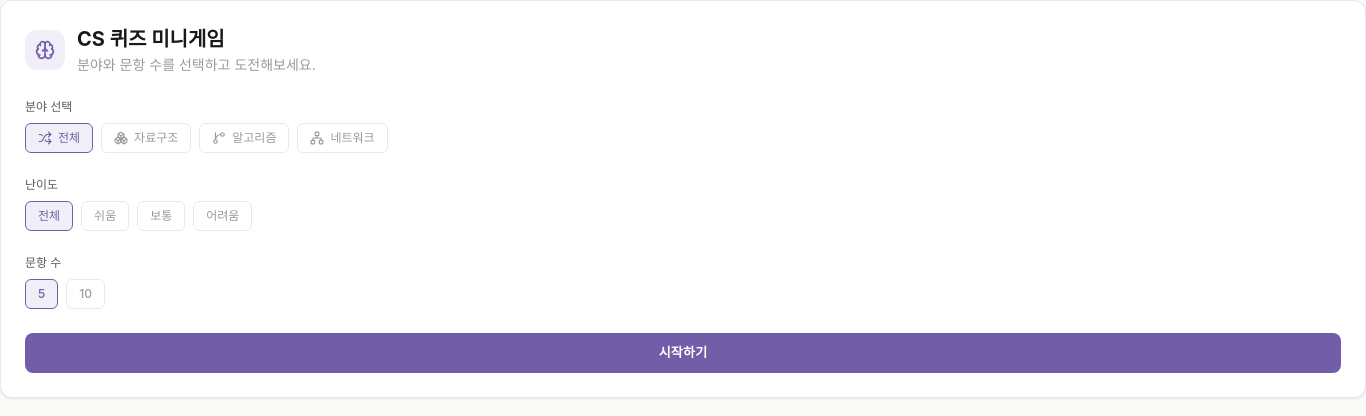
QuizStart › hides the 10 option when the filtered pool is below 10
The image size is (1366, 416).
Click the radio button labelled "알고리즘": (244,138) [199,123,290,153]
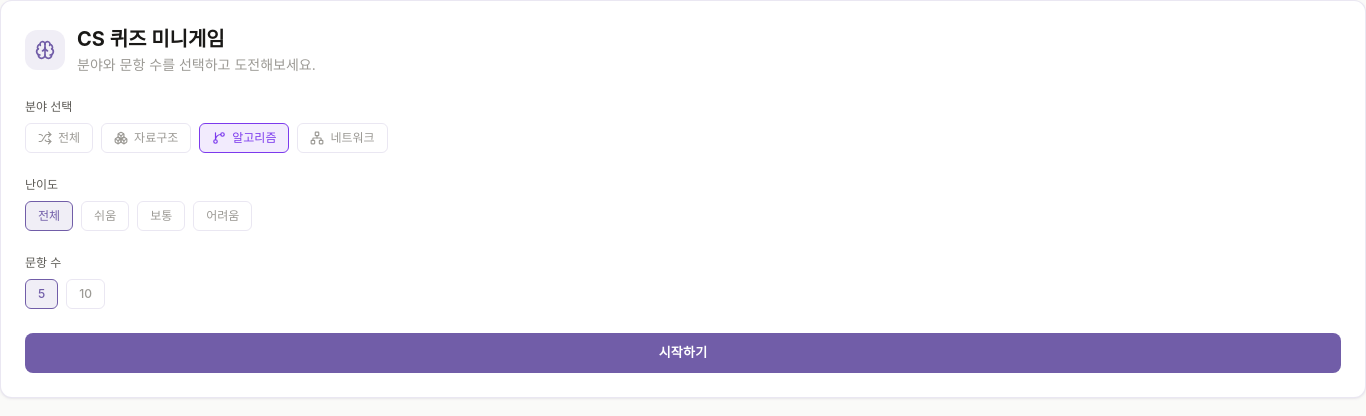
Click the radio button labelled "어려움": (223,216) [193,201,252,231]
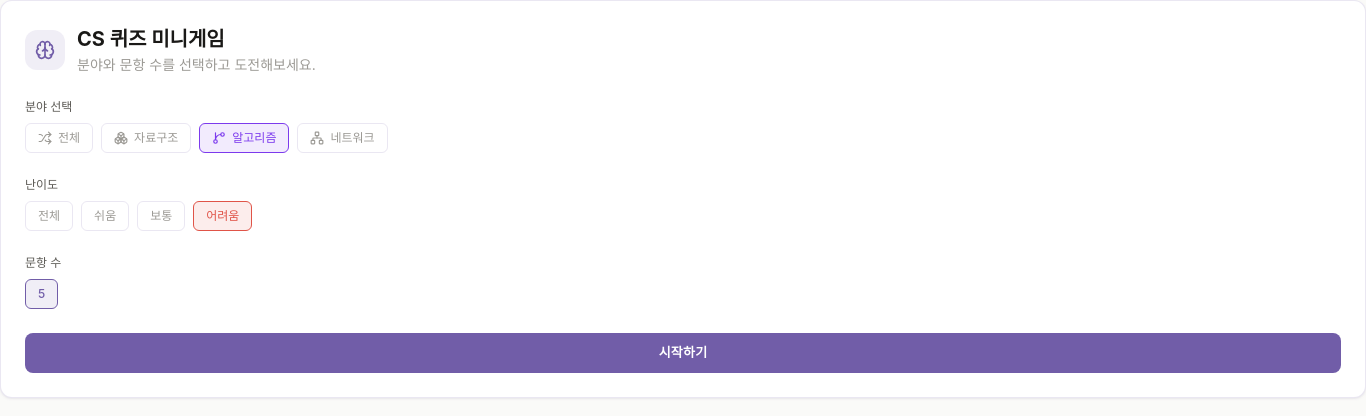
Expected: the radio button labelled "5" is shown, [25,279,58,309]
Expected: the radio button labelled "10" is gone
